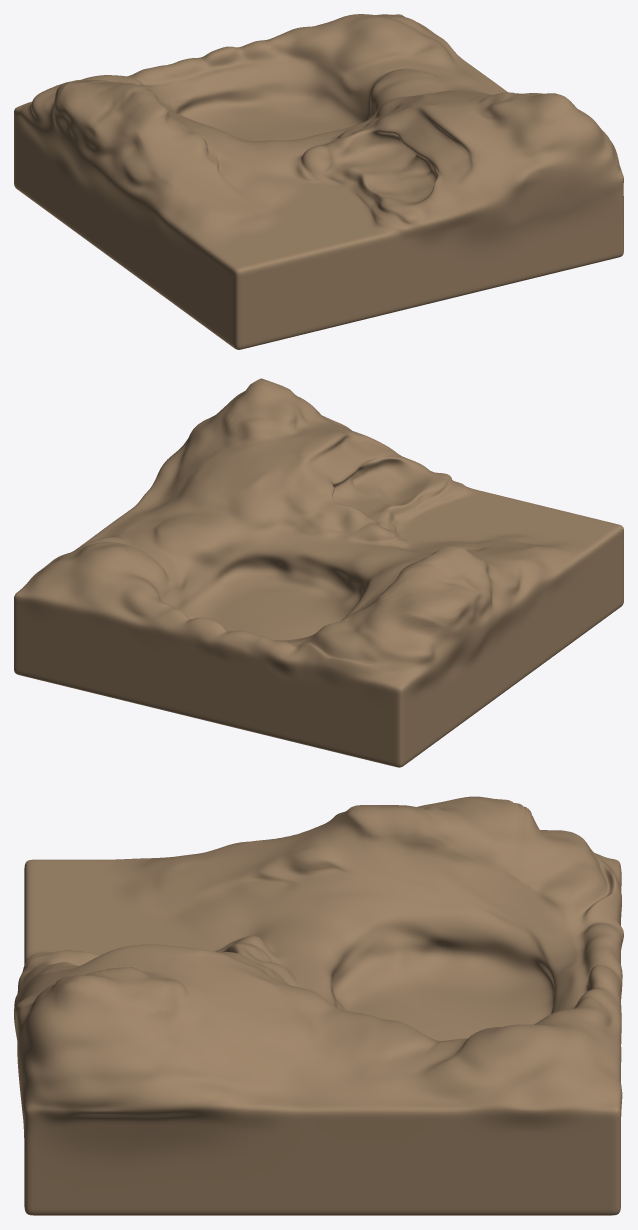
File: level_map.fbx
3 renders of one model, top to bottom at view 1: azimuth 30°, elevation 25°; view 2: azimuth 150°, elevation 25°; view 3: azimuth 270°, elevation 25°, orthographic. The views are drawn at different scales.
Parts seen in each view (by area): view 1: pCube1; view 2: pCube1; view 3: pCube1.
Part boxes in pixels (x1,y1,x2,y2): pCube1: [14, 14, 623, 349]; pCube1: [14, 378, 623, 767]; pCube1: [14, 796, 623, 1215].
Bounding box in the file's own units: 5.23 × 1.93 × 5.11.
